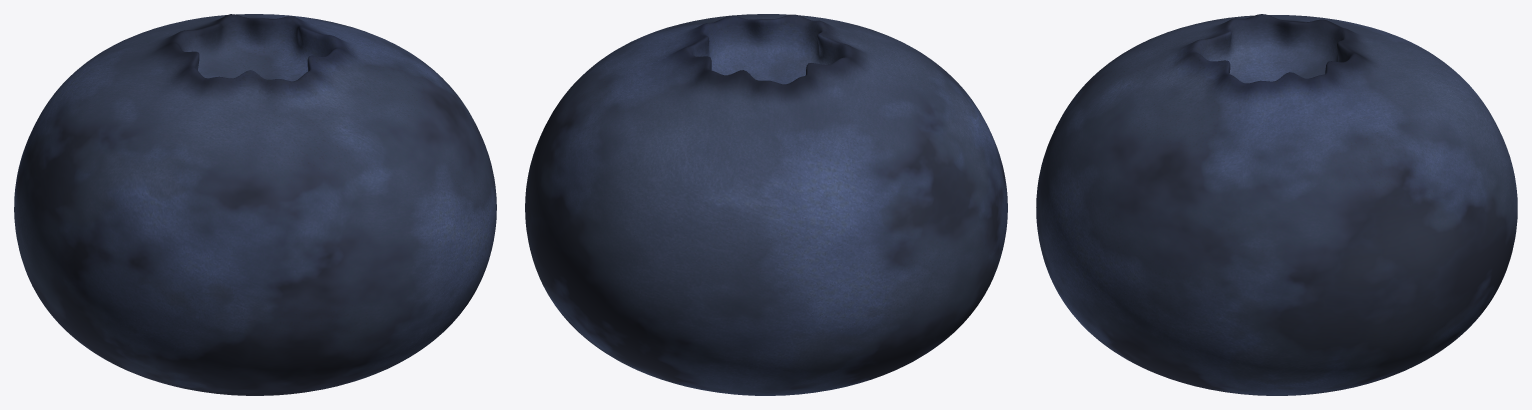
The model's file is blueberry.glb.
The picture shows the model from 3 angles, left to right: view 1: azimuth 30°, elevation 25°; view 2: azimuth 150°, elevation 25°; view 3: azimuth 270°, elevation 25°; orthographic projection.
Parts seen in each view (by area): view 1: Blueberry_Baked; view 2: Blueberry_Baked; view 3: Blueberry_Baked.
Part boxes in pixels (<box>): Blueberry_Baked: <box>14,14,496,395</box>; Blueberry_Baked: <box>525,14,1007,395</box>; Blueberry_Baked: <box>1036,14,1517,395</box>.
Size of the model in its own units: 0.0196 by 0.0137 by 0.0196.
1 material, 1 textured.
